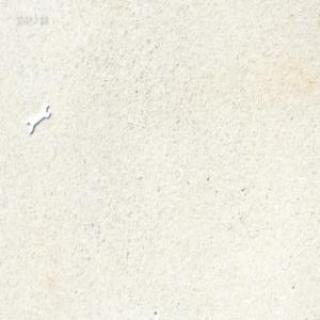Wrenchtrack_idkeyframe: (26, 99, 50, 132)
